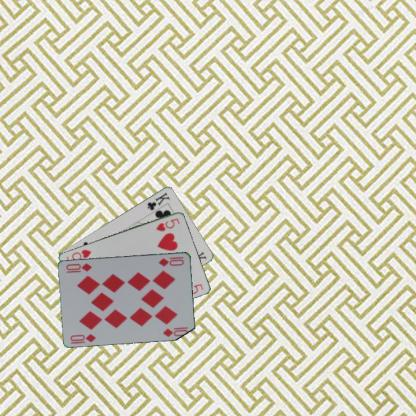10d: (156, 254, 185, 268), (68, 331, 97, 345)
5h: (154, 216, 181, 232)
Kc: (144, 190, 171, 212)
